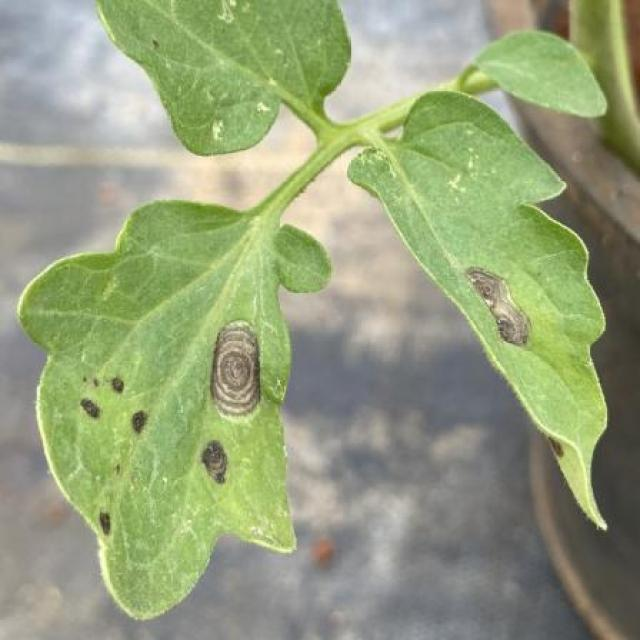Early Blight: (20, 196, 329, 624), (345, 90, 615, 530)
